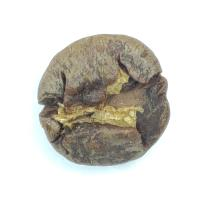NG: (46, 38, 161, 150)
